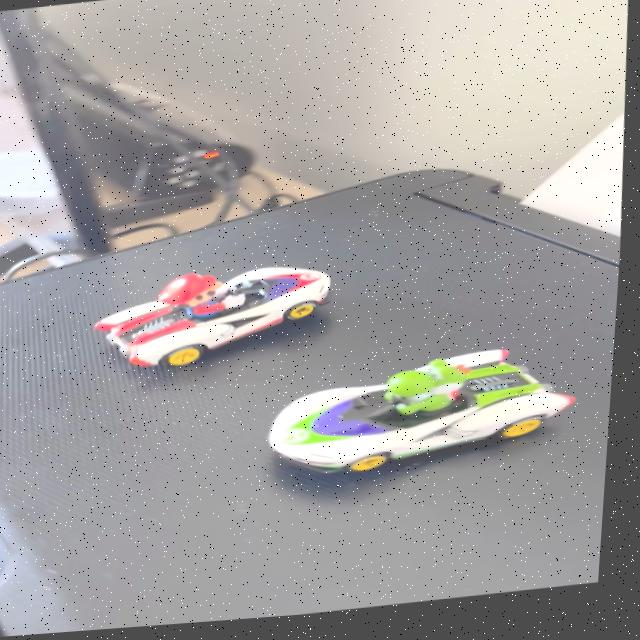mario: (81, 251, 355, 378)
yoshi: (254, 340, 593, 493)
